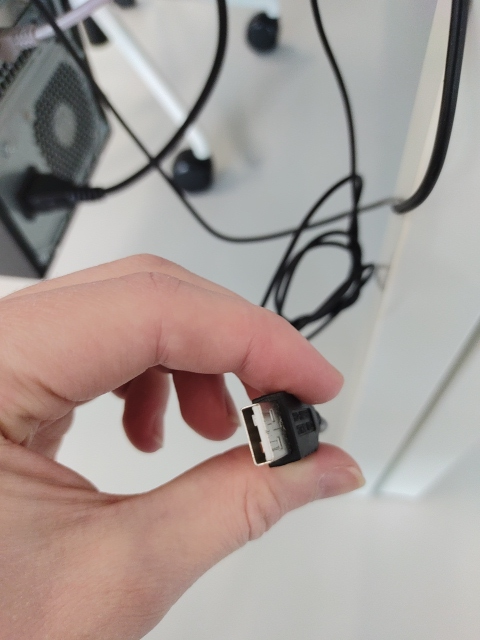USB: (240, 402, 290, 466)
